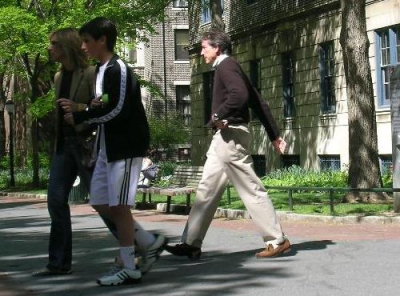person: (197, 32, 282, 261), (82, 15, 148, 281), (44, 27, 81, 279)
